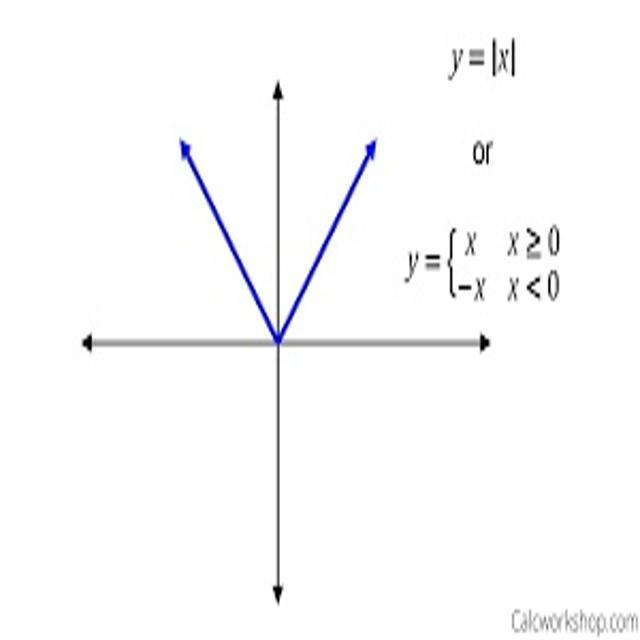axis: (271, 70, 285, 609), (80, 335, 500, 348)
line: (177, 138, 381, 353)
